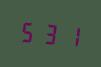five: (18, 17, 38, 45)
one: (61, 20, 81, 49)
three: (40, 19, 60, 47)
